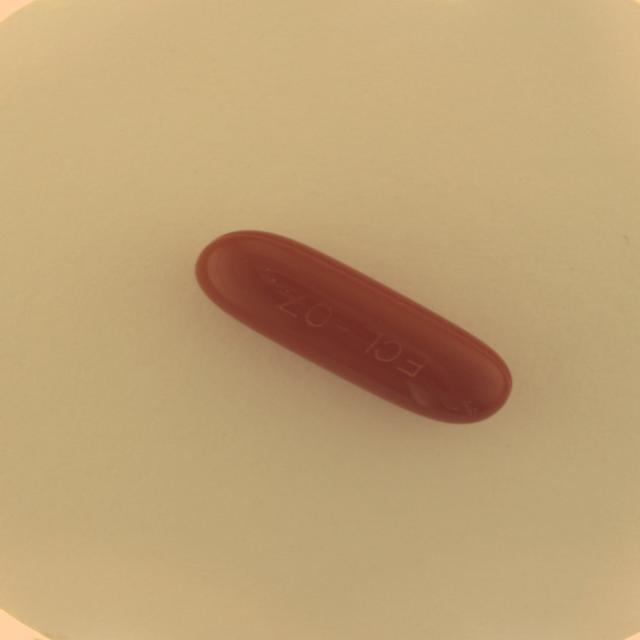Oval: (191, 226, 513, 429)
